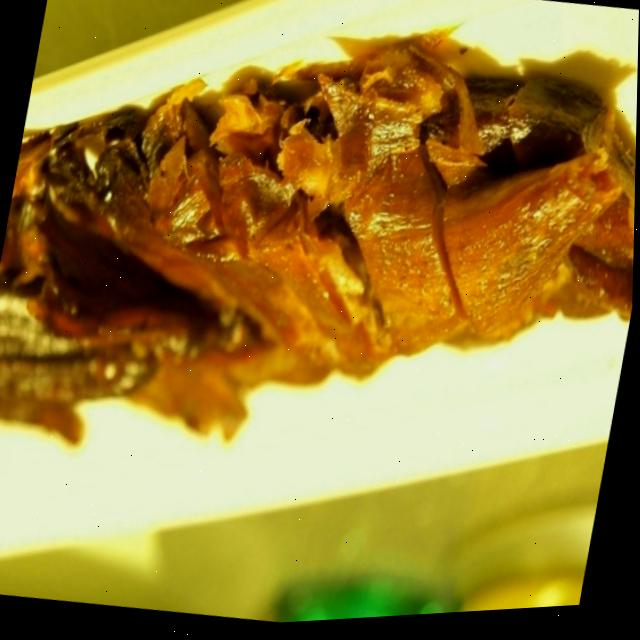烧串烤肉: (0, 0, 640, 568)
